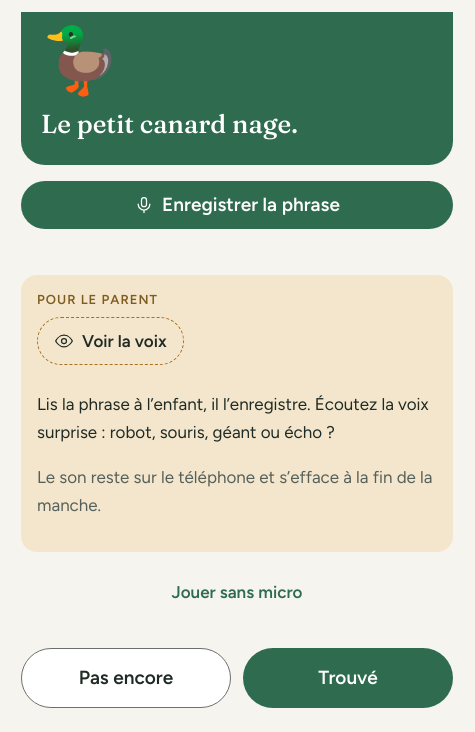
Scenario: une partie avec le micro › « Devine ma phrase » : la phrase se cache, l’enfant choisit la voix
Later steps or results of the test are not shown.
(page scrolled)
Step 1. Click the button "Pas encore" → (126, 678), box [21,648,231,708]
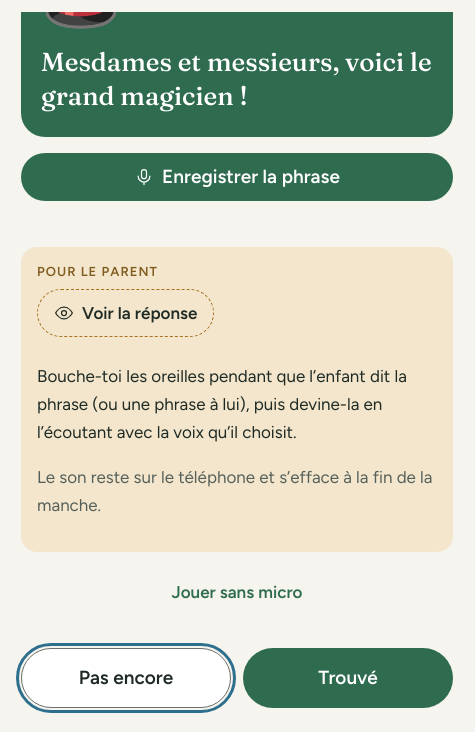
Step 2. Click the button "Enregistrer la phrase" → (237, 177), box [21,153,453,201]
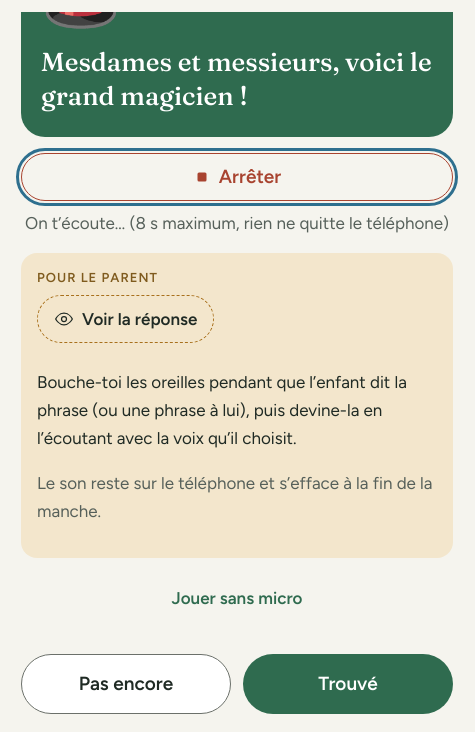
Step 3. Click the button "Arrêter" → (237, 177), box [21,153,453,201]
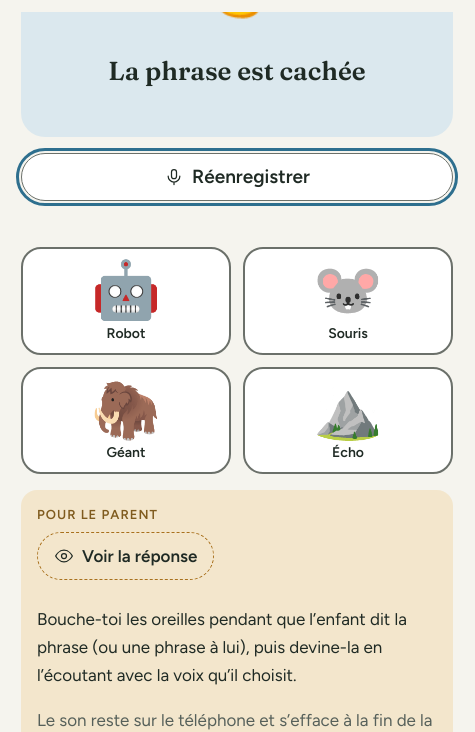
Expected: the text "La phrase est cachée" is shown, [108,55,366,87]
Step 4. Click the button "⛰️ Écho" → (348, 420), box [243,367,453,474]
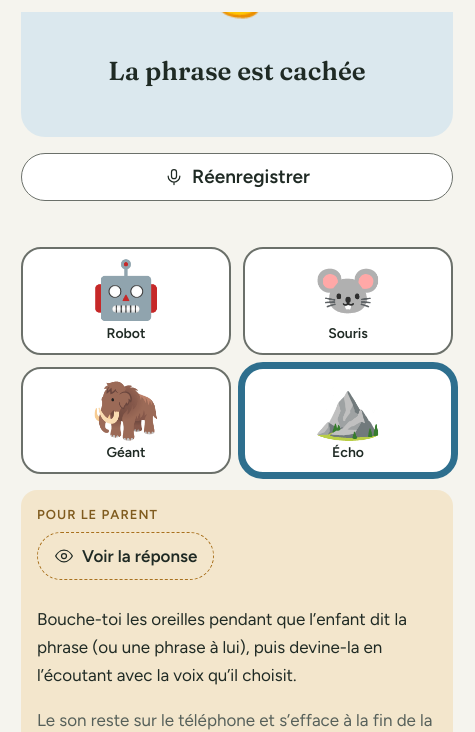
Expected: the button "⛰️ Écho" is pressed, [243,367,453,474]
